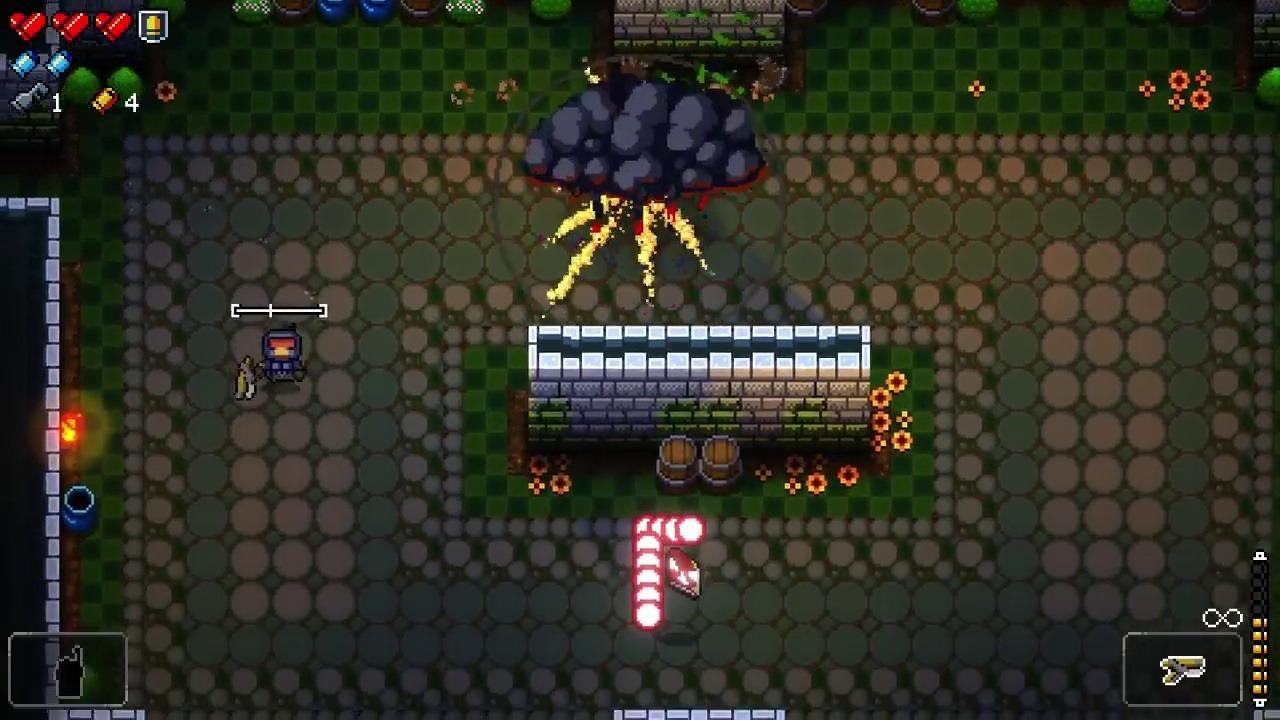bookllet_r: (667, 545, 701, 600)
bullet: (661, 516, 695, 541), (635, 601, 663, 631), (634, 533, 663, 560), (636, 565, 663, 593), (634, 549, 664, 574), (679, 516, 705, 544), (635, 585, 664, 608), (633, 514, 660, 538)
player: (263, 328, 307, 382)
wall: (527, 327, 871, 451)
